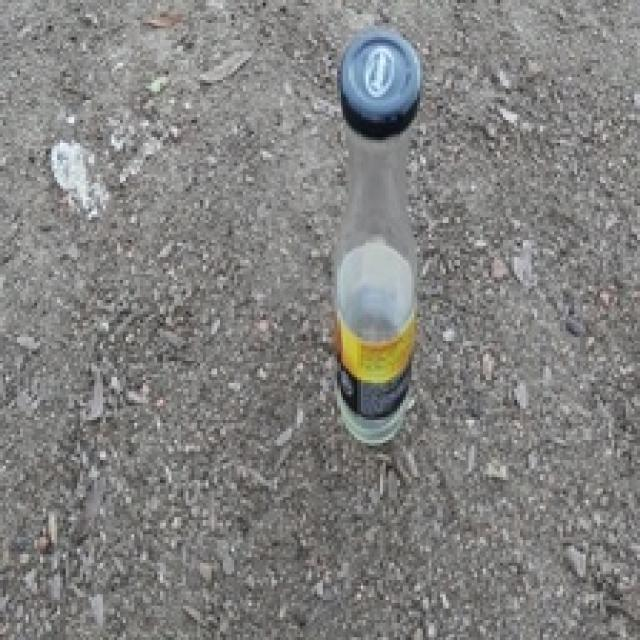Glass: (330, 110, 420, 448)
